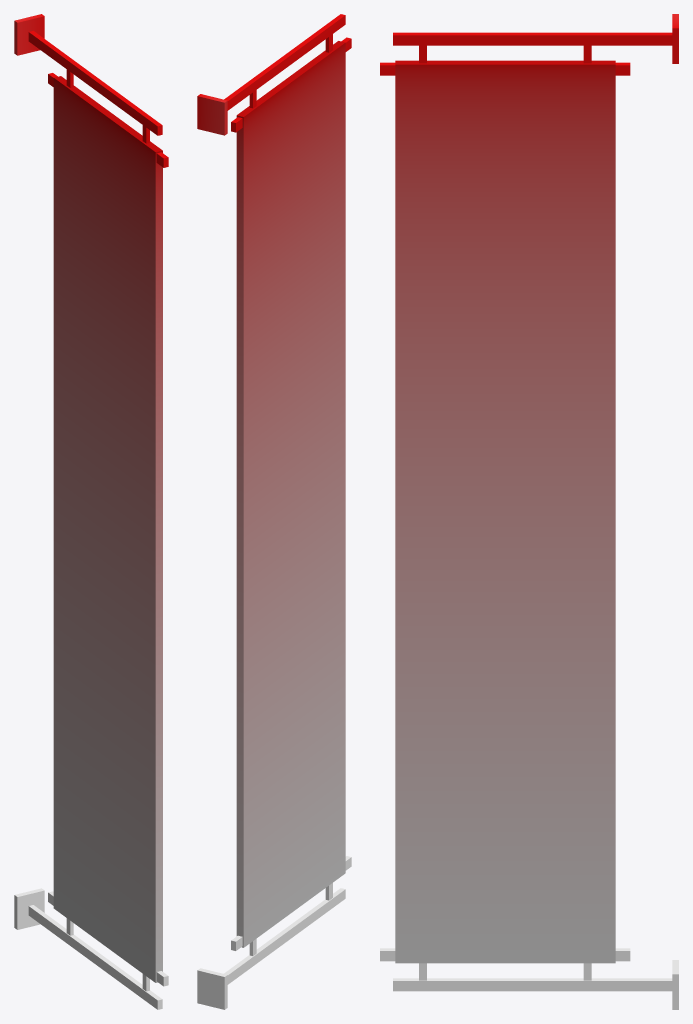
Rendered from Prop_Sign_JadeGarden_Vertical.gltf.
3 renders of one model, left to right at view 1: azimuth 30°, elevation 25°; view 2: azimuth 150°, elevation 25°; view 3: azimuth 270°, elevation 25°, orthographic. The views are drawn at different scales.
Parts seen in each view (by area): view 1: Prop_Sign_JadeGarden_Vertical; view 2: Prop_Sign_JadeGarden_Vertical; view 3: Prop_Sign_JadeGarden_Vertical.
Part boxes in pixels (box(x1,y1,x2,y2)): Prop_Sign_JadeGarden_Vertical: box(14, 14, 168, 1009); Prop_Sign_JadeGarden_Vertical: box(197, 14, 351, 1009); Prop_Sign_JadeGarden_Vertical: box(380, 14, 678, 1009).
Bounding box in the file's own units: 0.1241 × 3.94 × 1.09.
